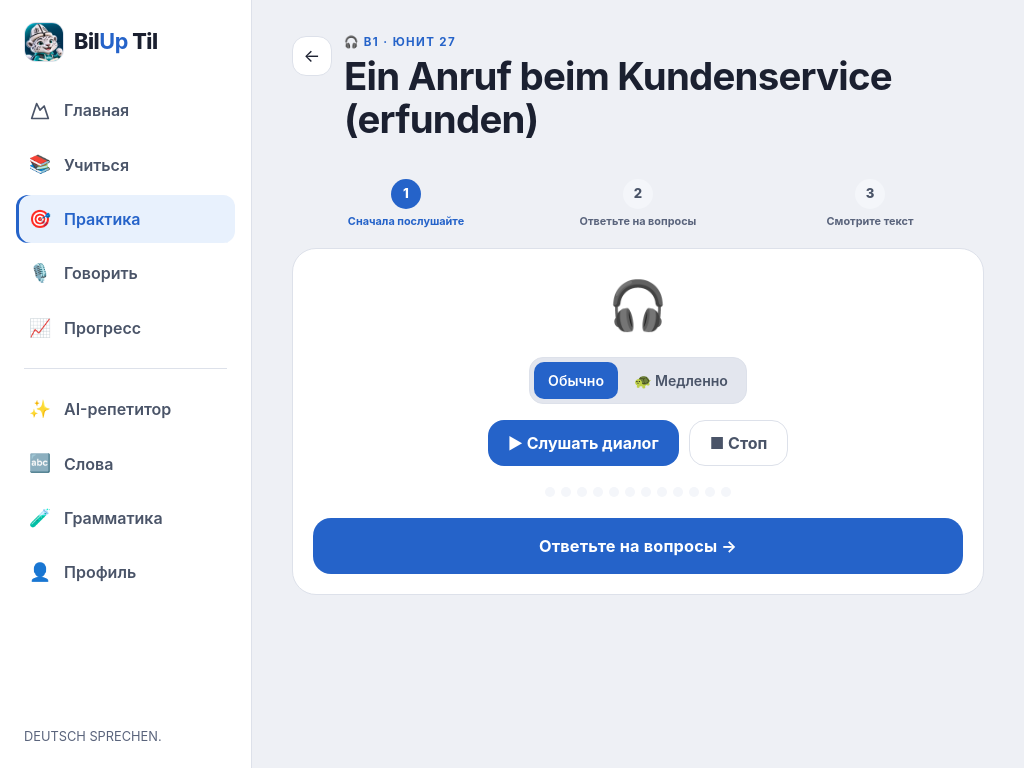
Test: reading and listening flows › ru: the listening shows the transcript only through the existing flow and offers the questions
Click the button "Ответьте на вопросы →" at [638, 546], box [313, 518, 963, 574]
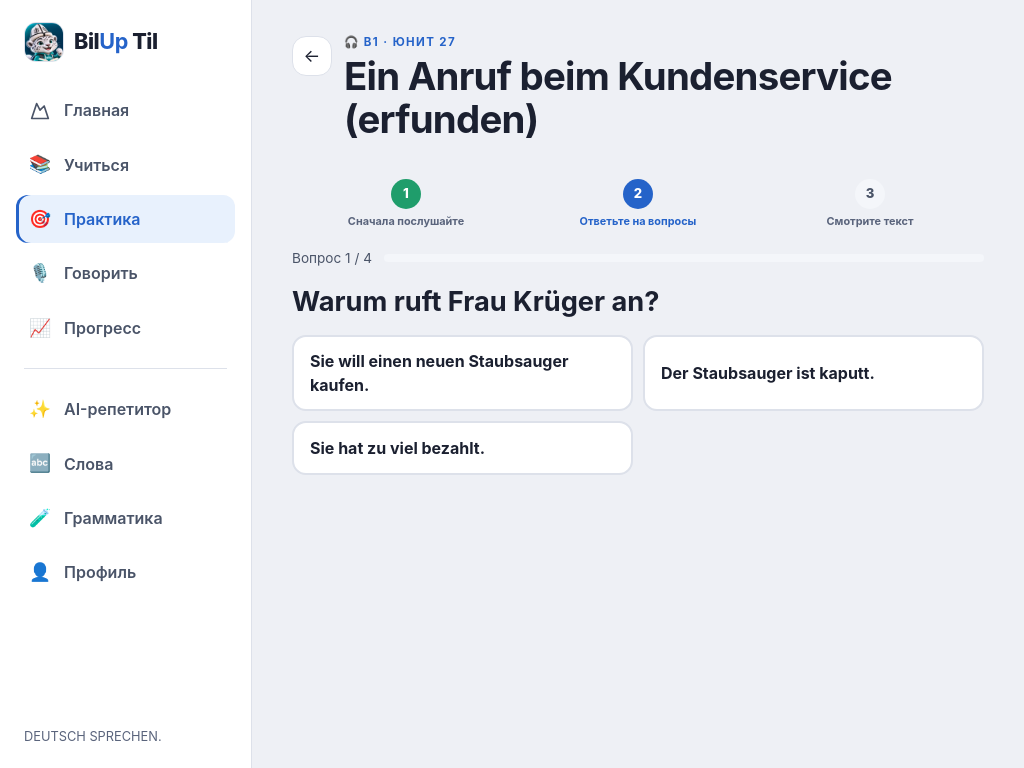
Expected: the text "Warum ruft Frau Krüger an?" is shown, [292, 284, 660, 321]
